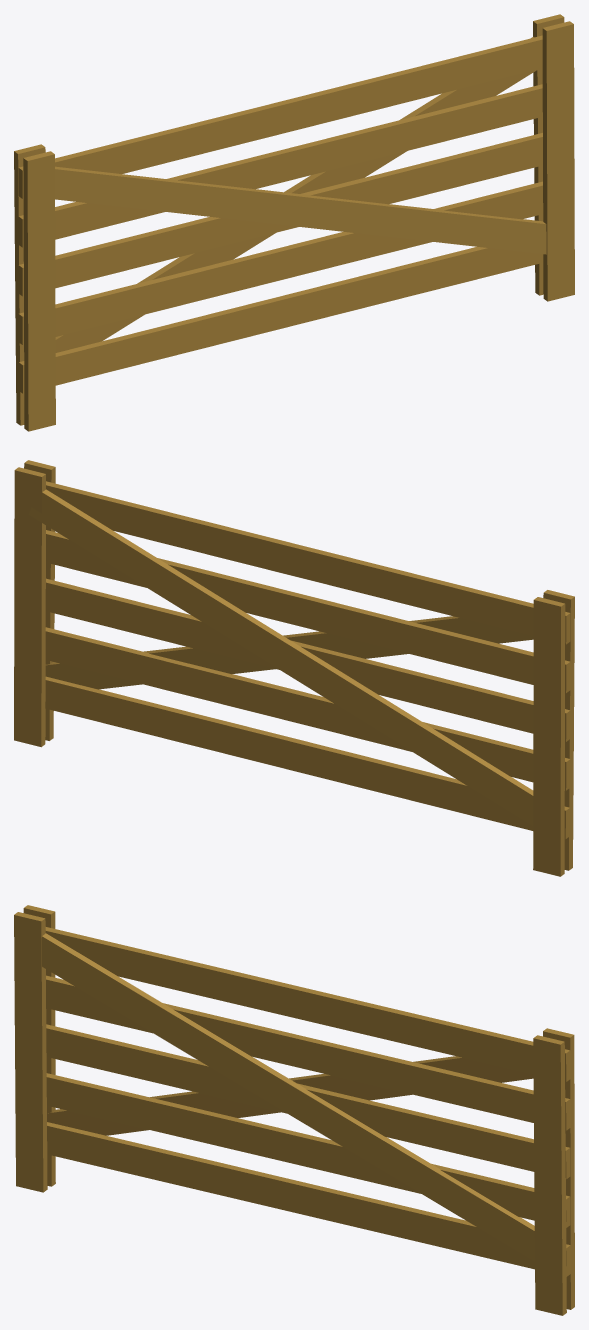
The model's file is Cancela.obj.
3 views of the same model, one above another, from view 1: azimuth 30°, elevation 25°; view 2: azimuth 150°, elevation 25°; view 3: azimuth 330°, elevation 25° (orthographic).
Parts seen in each view (by area): view 1: Cancela; view 2: Cancela; view 3: Cancela.
Part boxes in pixels (x1=…): Cancela: x1=14, y1=14, x2=574, y2=431; Cancela: x1=14, y1=460, x2=574, y2=876; Cancela: x1=14, y1=905, x2=574, y2=1315.
Bounding box in the file's own units: 200 × 95.93 × 8.83.
